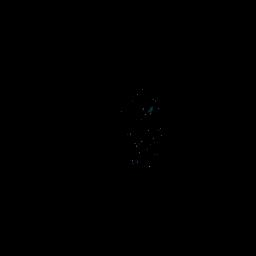boat: (118, 86, 168, 170)
